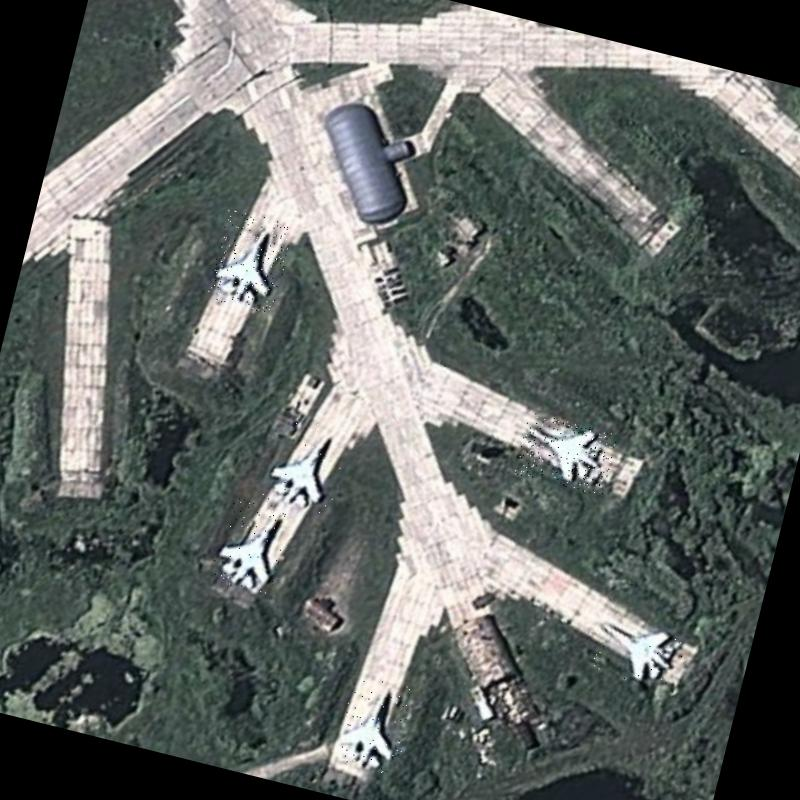A1: (206, 207, 294, 314), (258, 414, 349, 515), (332, 671, 417, 778), (514, 412, 618, 496), (587, 610, 688, 692), (209, 494, 291, 594)
